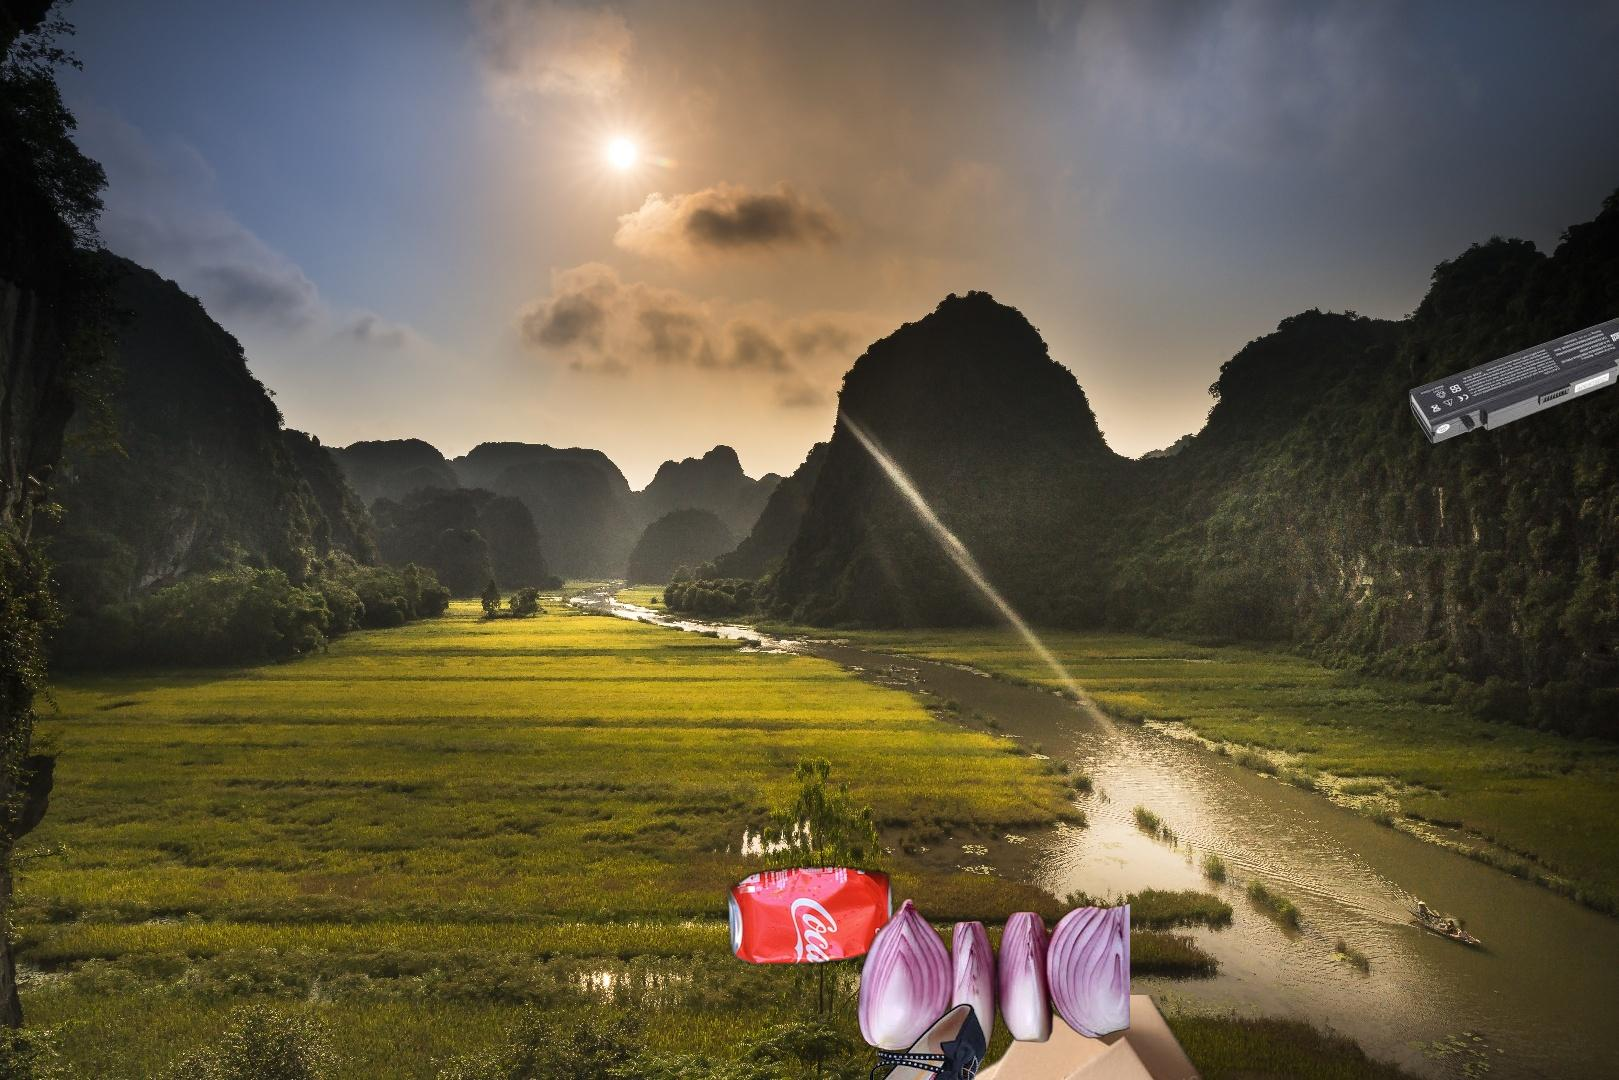battery: (1408, 308, 1619, 446)
biological: (853, 895, 1130, 1054)
metal-cans: (553, 406, 1065, 1080)
shoes: (812, 1001, 989, 1080)
trashbox-cardboard: (801, 995, 1312, 1080)
